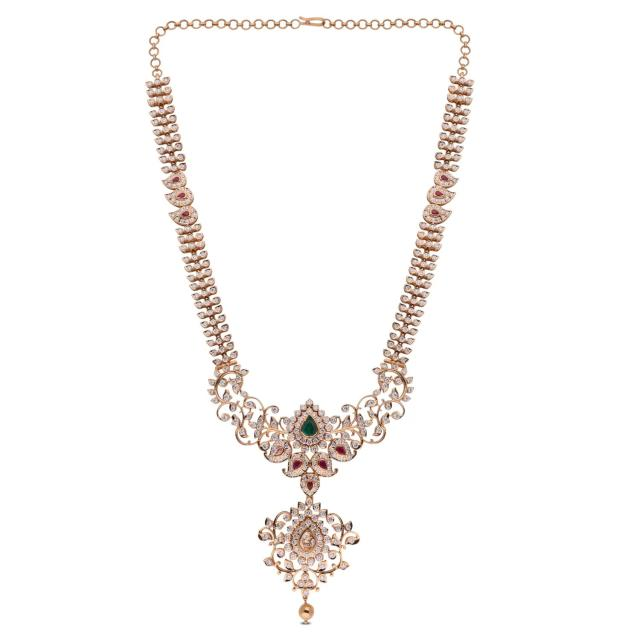missing gem: (299, 527, 316, 551), (273, 448, 284, 456)
